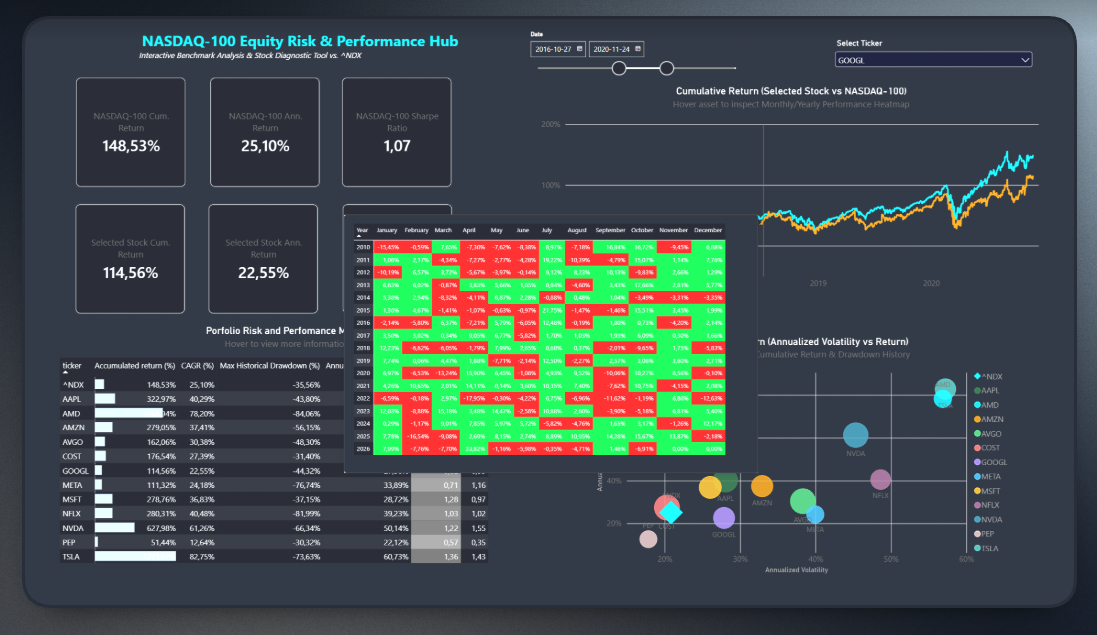

This screenshot's page, from the dashboard's own definition file:
{"tool":"powerbi","page":{"name":"Dashboard","canvas":[1920,1080],"ordinal":0},"visuals":[{"type":"pivotTable","title":"Porfolio Risk and Perfomance Metrics","fields":{"Rows":["summary_table.ticker"],"Values":["measure.Return_Selected_Stock","measure.d_annualized_return","Sum(summary_table.max_drawdown)","measure.Annualized_volatility","measure.d_sharpe_ratio","Sum(summary_table.scl_beta)"]},"box":[53.1,546,862,505.2],"z":0},{"type":"slicer","fields":{"Values":["calendar.Date"]},"box":[915.1,25.9,396.3,118.5],"z":1000},{"type":"cardVisual","fields":{"Data":["measure.d_annualized_return"]},"box":[337.7,340.4,200,200],"z":2000},{"type":"cardVisual","fields":{"Data":["measure.d_sharpe_ratio"]},"box":[581.4,340.4,200,200],"z":3000},{"type":"lineChart","title":"Cumulative Return (Selected Stock vs NASDAQ-100)","fields":{"Category":["calendar.Date"],"Y":["measure.Cumulative_Return_^NDX","measure.Cumulative_Return_Other"]},"box":[924.6,111.7,940.2,434.8],"z":4000},{"type":"cardVisual","fields":{"Data":["measure.Return_Selected_Stock"]},"box":[96.7,340.4,200,200],"z":5000},{"type":"cardVisual","fields":{"Data":["measure.Return_Selected_Stock"]},"box":[98,111.7,200,200],"z":6000},{"type":"scatterChart","title":"Risk vs Return (Annualized Volatility  vs Return)","fields":{"Series":["summary_table.ticker"],"Size":["Sum(summary_table.sharpe_ratio)"],"X":["Sum(summary_table.annualized_volatility)"],"Y":["measure.d_annualized_return"]},"box":[1025.4,565.1,787.6,462.7],"z":7000},{"type":"textbox","box":[212.4,25.9,648.2,59.9],"z":8000},{"type":"slicer","fields":{"Values":["summary_table.ticker"]},"box":[1469.3,40.9,367.7,89.9],"z":9000},{"type":"cardVisual","fields":{"Data":["measure.d_annualized_return"]},"box":[340.4,111.7,200,200],"z":10000},{"type":"cardVisual","fields":{"Data":["measure.d_sharpe_ratio"]},"box":[580.1,111.7,200,200],"z":11000}]}

Visuals, with their boxes in screenshot pixels (x1, y1, x2, y2), scaled from the page's 1920x1080 canvas onto the 1097x635 screenshot:
"Porfolio Risk and Perfomance Metrics" pivotTable: left=30, top=321, right=523, bottom=618
slicer - calendar.Date: left=523, top=15, right=749, bottom=85
cardVisual - measure.d_annualized_return: left=193, top=200, right=307, bottom=318
cardVisual - measure.d_sharpe_ratio: left=332, top=200, right=446, bottom=318
"Cumulative Return (Selected Stock vs NASDAQ-100)" lineChart: left=528, top=66, right=1065, bottom=321
cardVisual - measure.Return_Selected_Stock: left=55, top=200, right=170, bottom=318
cardVisual - measure.Return_Selected_Stock: left=56, top=66, right=170, bottom=183
"Risk vs Return (Annualized Volatility  vs Return)" scatterChart: left=586, top=332, right=1036, bottom=604
textbox: left=121, top=15, right=492, bottom=50
slicer - summary_table.ticker: left=839, top=24, right=1050, bottom=77
cardVisual - measure.d_annualized_return: left=194, top=66, right=309, bottom=183
cardVisual - measure.d_sharpe_ratio: left=331, top=66, right=446, bottom=183
